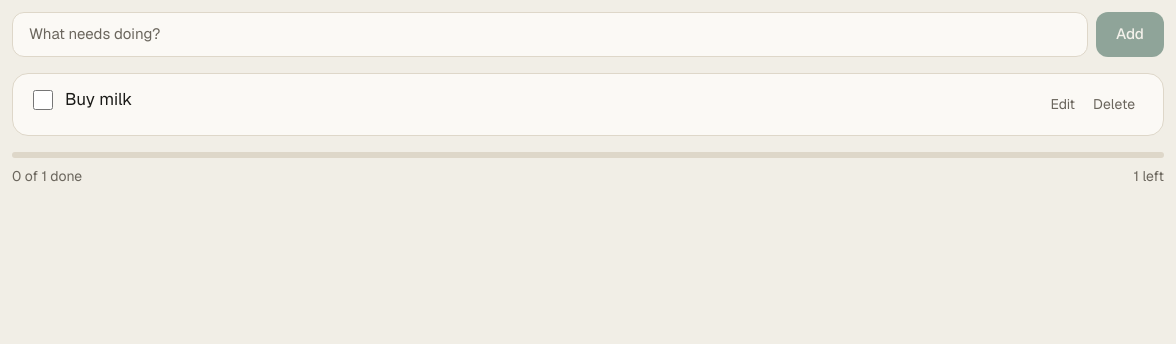
Test case: TodoList › edits a todo's title and description
The image size is (1176, 344).
Click the button "Edit". click: [1063, 104]
box: [1042,88,1083,120]
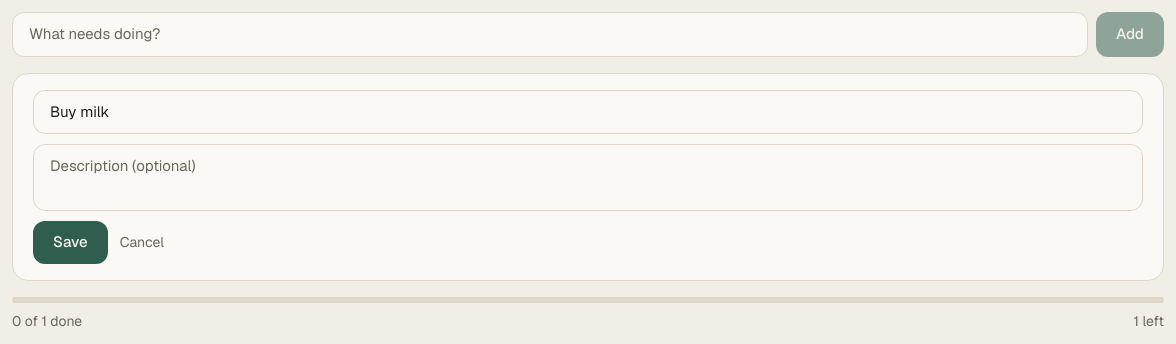
Replace the text in the field named "Title" with "Buy oat milk". click: [588, 112]
box: [33,90,1143,134]
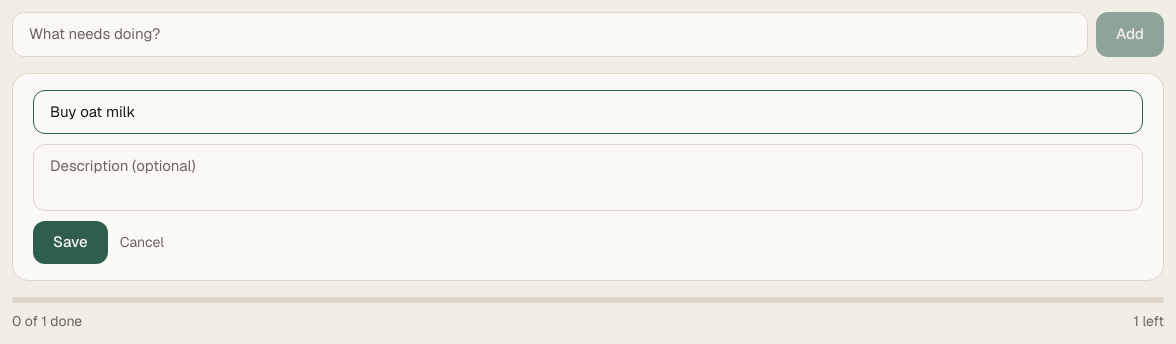
Type "the barista one" into the text box labelled "Description". click: [588, 178]
box: [33,144,1143,211]
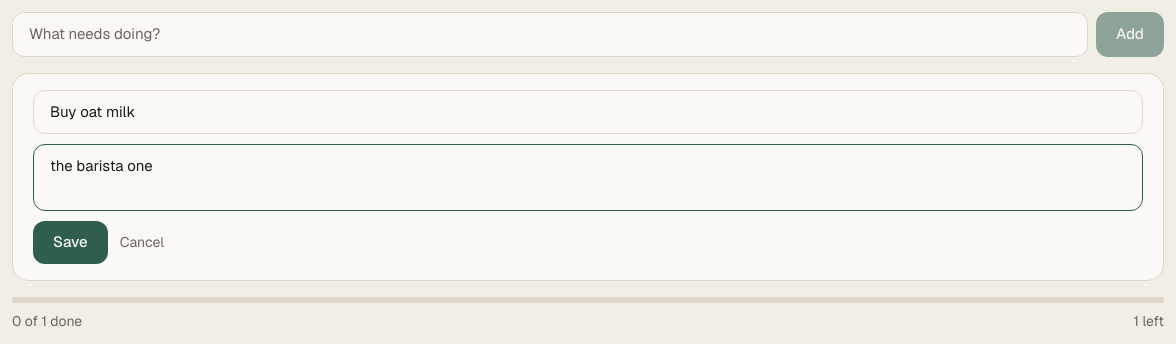
Click the button "Save". click: [70, 242]
box: [33,221,108,264]
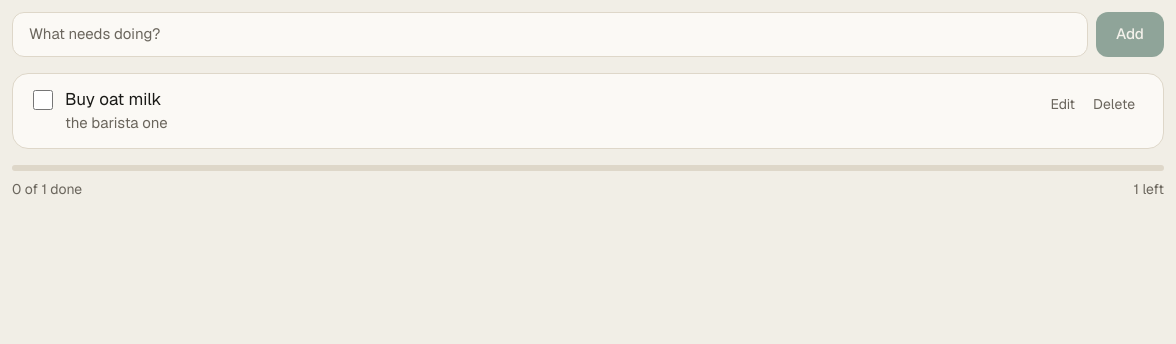
Now the text "Buy oat milk" is shown, box [65,88,162,110]
Now the text "the barista one" is shown, box [65,113,168,132]
